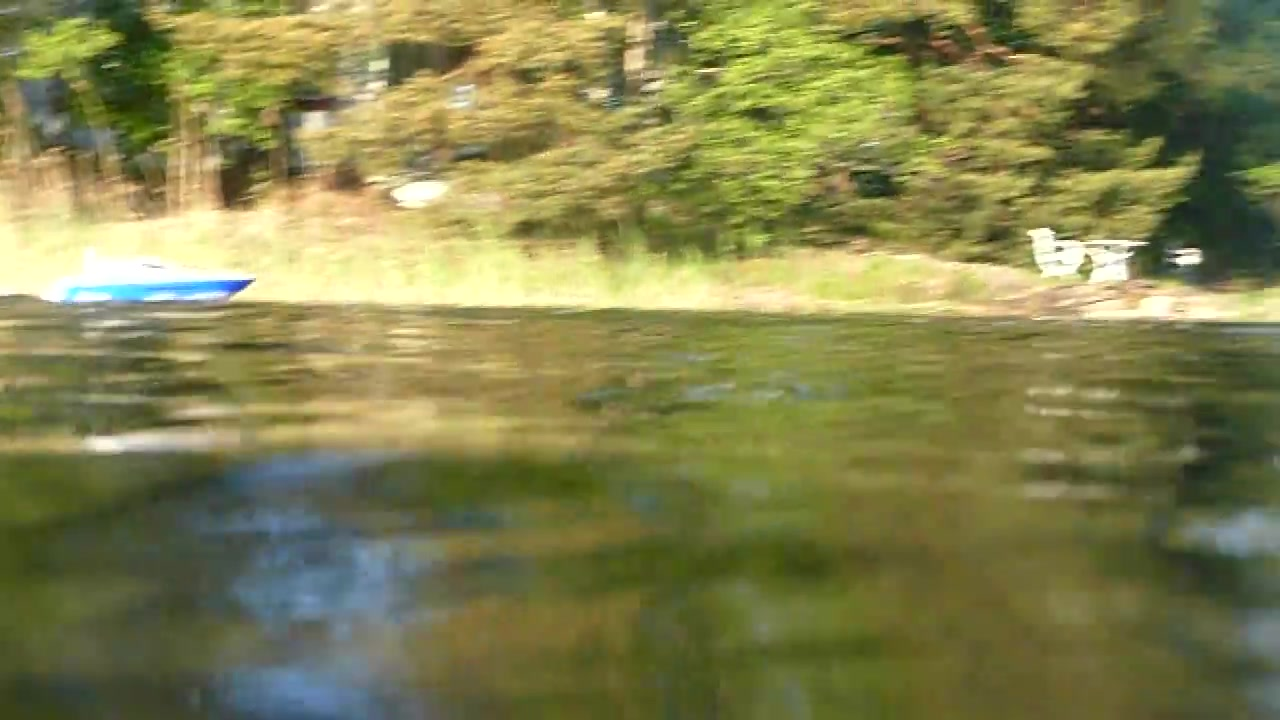boat: (54, 250, 257, 308)
